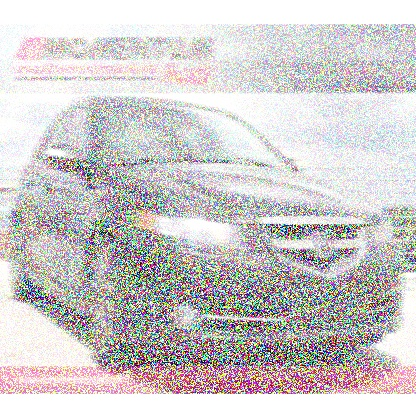Vehicle: (8, 92, 406, 370)
